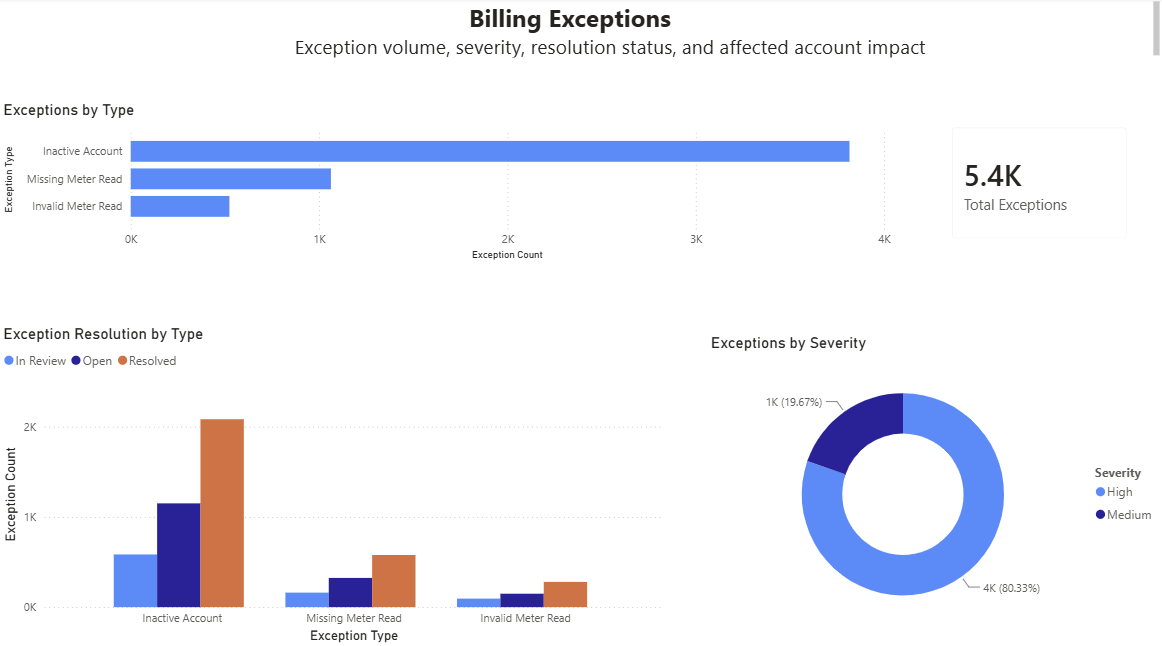

Layout of this report page (visuals, bound fields, positions):
{"tool":"powerbi","page":{"name":"Billing Exceptions","canvas":[1280,720],"ordinal":1},"visuals":[{"type":"textbox","box":[0,0,1280.3,71.4],"z":0},{"type":"clusteredBarChart","title":"Exceptions by Type","fields":{"Category":["Billing Exceptions.exception_type"],"Y":["Sum(Billing Exceptions.exception_count)"]},"box":[0,113.9,983.9,179.8],"z":1000},{"type":"clusteredColumnChart","title":"Exception Resolution by Type","fields":{"Y":["Sum(Billing Exceptions.in_review_exceptions)","Sum(Billing Exceptions.open_exceptions)","Sum(Billing Exceptions.resolved_exceptions)"],"Category":["Billing Exceptions.exception_type"]},"box":[0,359.5,734.1,354],"z":2000},{"type":"cardVisual","fields":{"Data":["Sum(Billing Exceptions.exception_count)"]},"box":[1029.2,126.2,226.4,156.4],"z":3000},{"type":"donutChart","title":"Exceptions by Severity","fields":{"Category":["Billing Exceptions.severity"],"Y":["Sum(Billing Exceptions.exception_count)"]},"box":[776.7,369.1,503.6,334.8],"z":4000}]}

Visuals, with their boxes in screenshot pixels (x1, y1, x2, y2), scaled from the page's 1280x720 canvas onto the 1162x646 screenshot:
textbox: <box>0,0,1161,64</box>
"Exceptions by Type" clusteredBarChart: <box>0,102,893,264</box>
"Exception Resolution by Type" clusteredColumnChart: <box>0,323,666,640</box>
cardVisual - Sum(Billing Exceptions.exception_count): <box>934,113,1140,254</box>
"Exceptions by Severity" donutChart: <box>705,331,1161,632</box>
